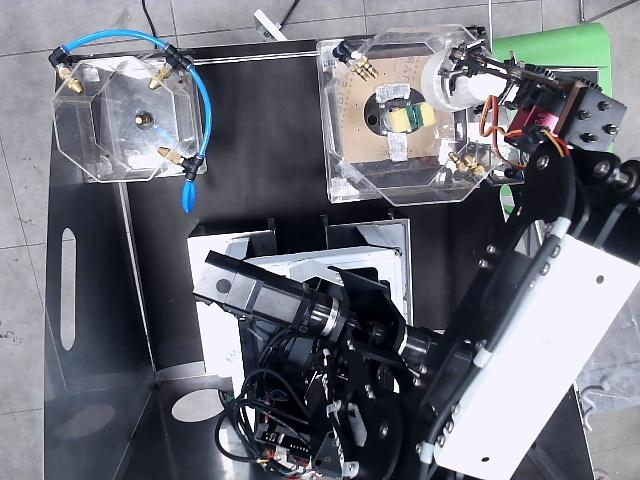cup: (421, 50, 505, 109)
